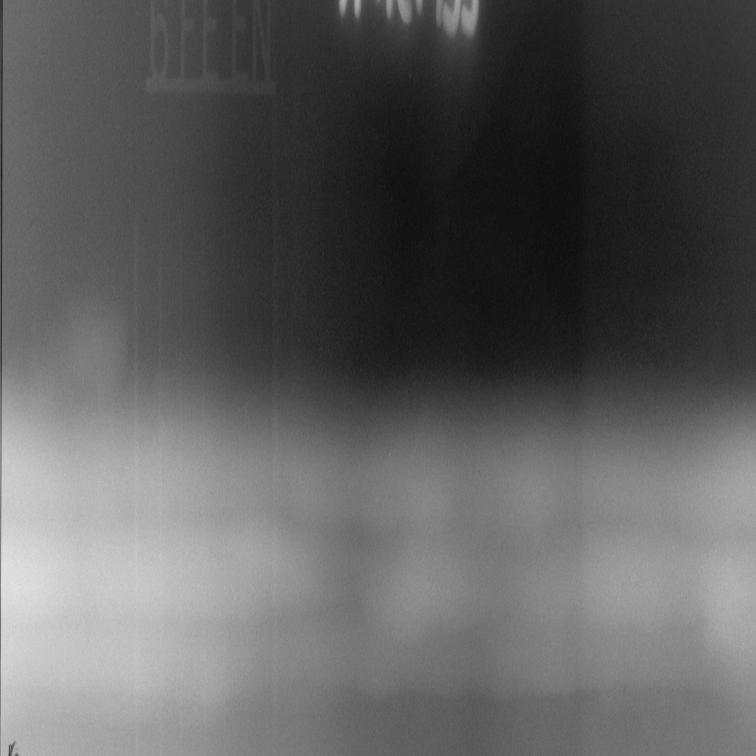FF: (7, 436, 750, 699)
